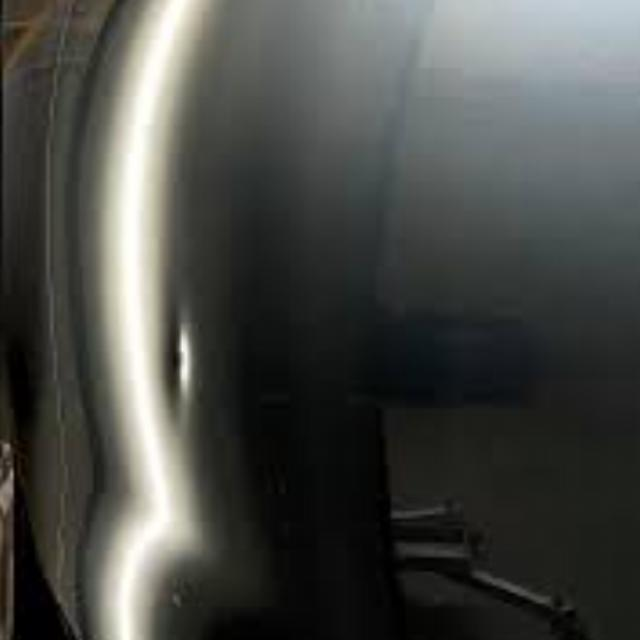dents: (162, 301, 215, 454)
